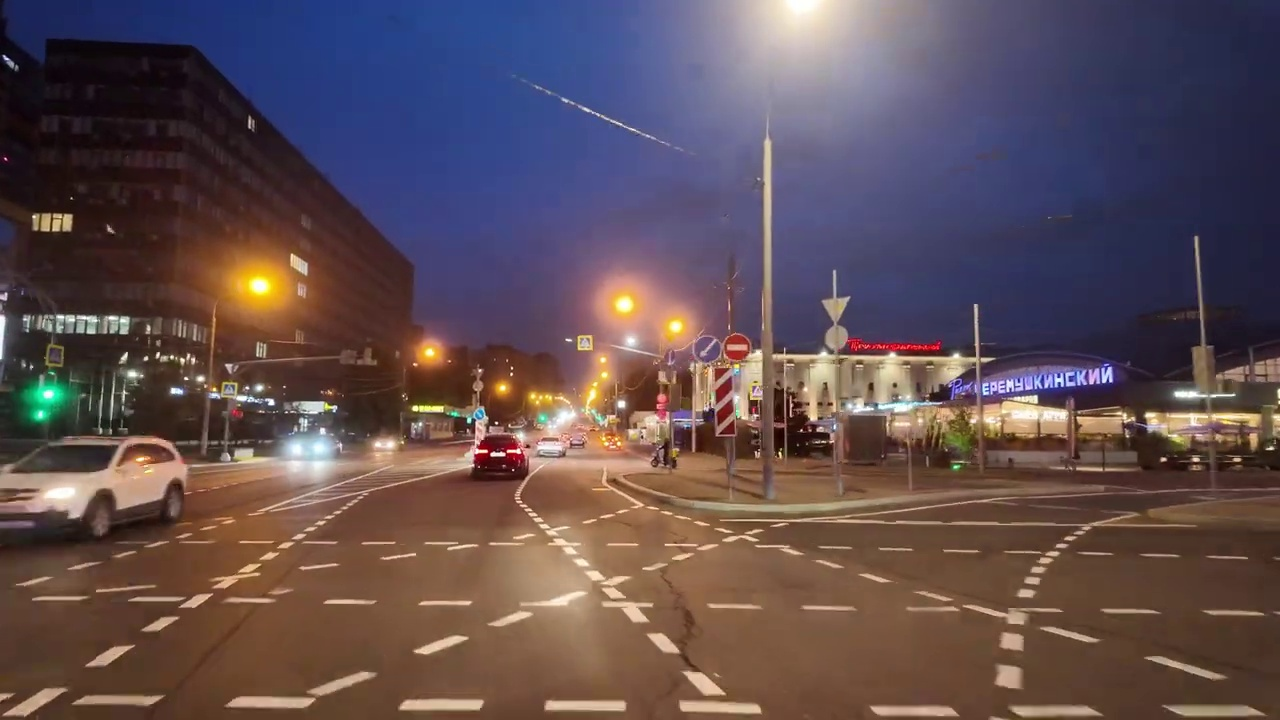acesa: (239, 268, 283, 307), (773, 1, 830, 30), (608, 287, 642, 319), (415, 338, 445, 367), (661, 313, 691, 341), (492, 378, 515, 399)
